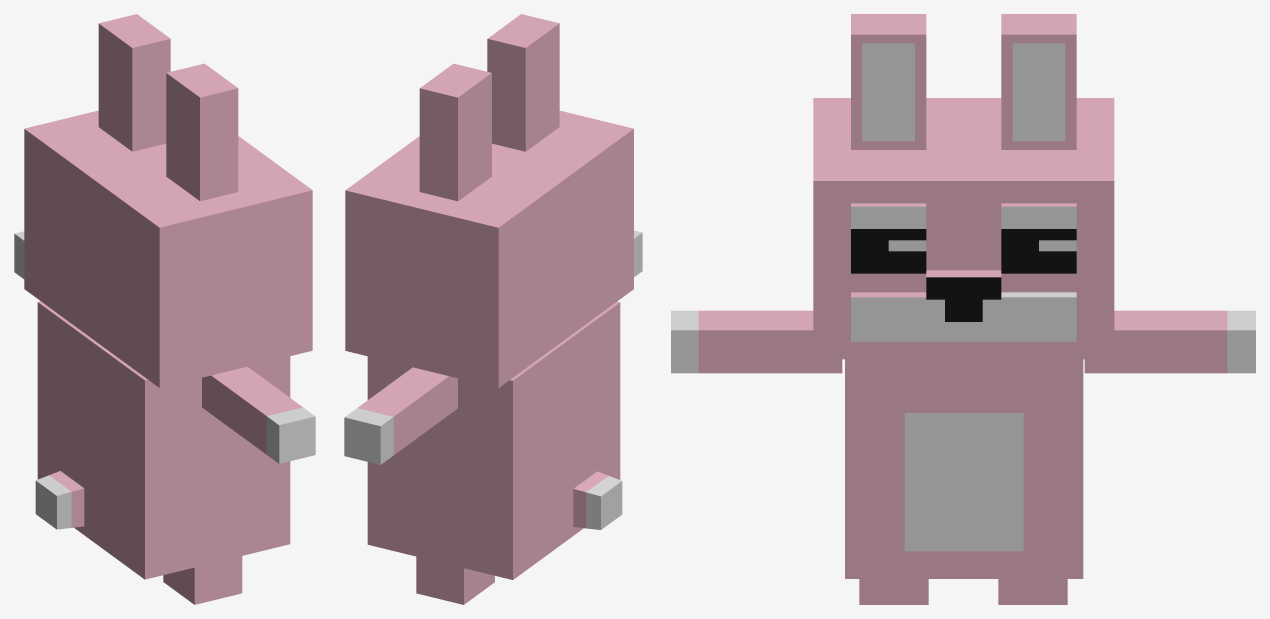
File: rabbit.fbx
3 views of the same model, side by side, from view 1: azimuth 30°, elevation 25°; view 2: azimuth 150°, elevation 25°; view 3: azimuth 270°, elevation 25° (orthographic). The views are drawn at different scales.
Parts seen in each view (by area): view 1: Cube.002, Cube.001, Cube.004, Cube.005, Cube, Cube.003; view 2: Cube.002, Cube.001, Cube.003, Cube.006, Cube; view 3: Cube.002, Cube.001, Cube.004, Cube.003, Cube.005, Cube.006.
Boxes of the visible parts, bbox=[...] form: Cube.002: bbox=[24, 14, 312, 387]; Cube.001: bbox=[37, 301, 290, 579]; Cube.004: bbox=[202, 366, 315, 463]; Cube.005: bbox=[163, 556, 242, 604]; Cube: bbox=[35, 471, 84, 529]; Cube.003: bbox=[14, 231, 24, 278]; Cube.002: bbox=[345, 14, 633, 387]; Cube.001: bbox=[367, 301, 620, 579]; Cube.003: bbox=[344, 367, 457, 464]; Cube.006: bbox=[416, 556, 494, 604]; Cube: bbox=[573, 471, 622, 529]; Cube.002: bbox=[813, 14, 1114, 359]; Cube.001: bbox=[845, 359, 1083, 578]; Cube.004: bbox=[671, 310, 842, 373]; Cube.003: bbox=[1084, 310, 1255, 373]; Cube.005: bbox=[859, 579, 928, 604]; Cube.006: bbox=[998, 579, 1067, 604].
Size of the model in its own units: 324 by 745 by 698.
